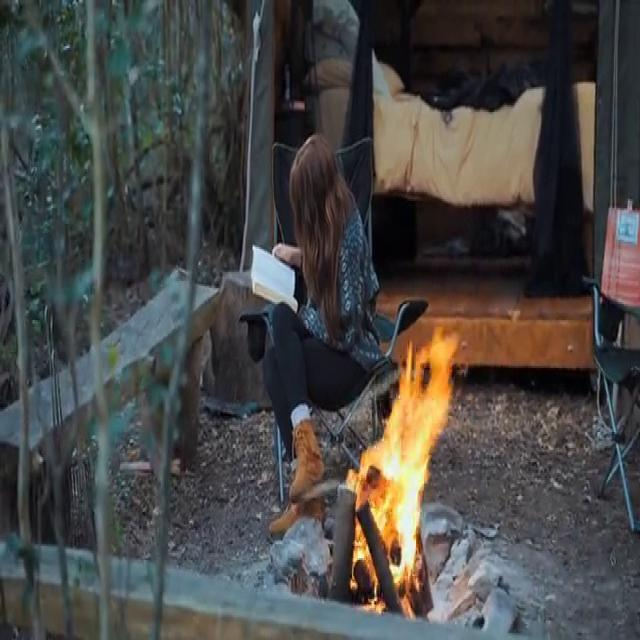Fire: (348, 314, 468, 604)
